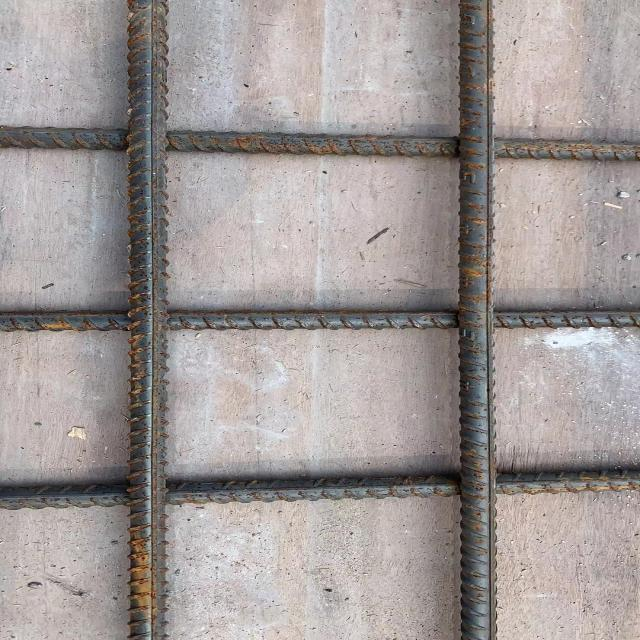ribbed bar: (448, 2, 502, 639), (4, 464, 636, 515), (125, 2, 171, 638), (0, 125, 638, 165), (0, 306, 638, 335)
